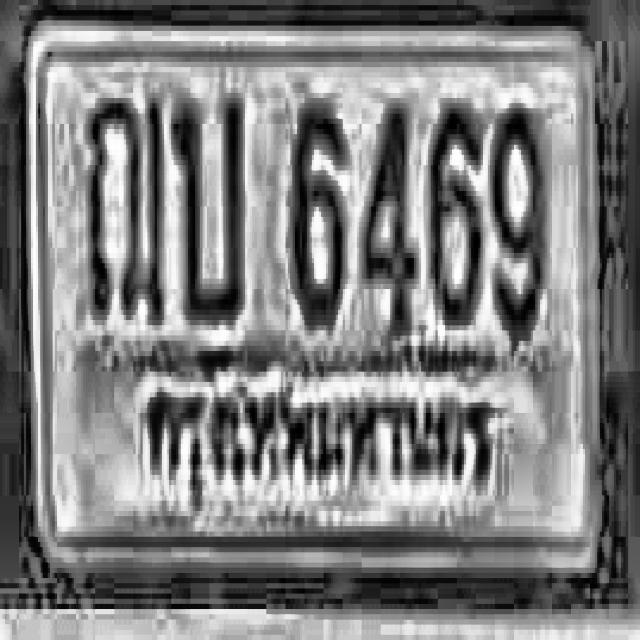license-plate: (24, 21, 617, 586)
